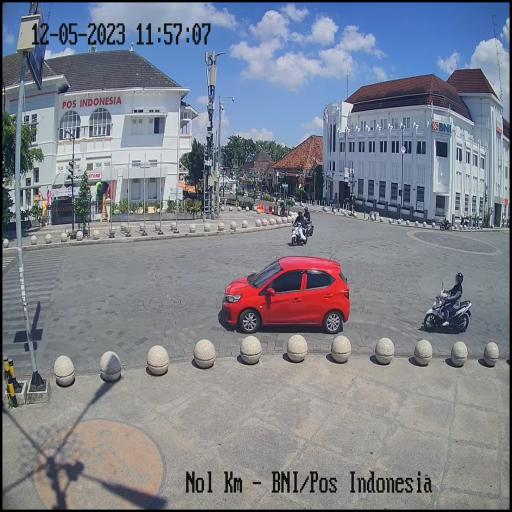mobil: (223, 251, 348, 337)
motor: (422, 278, 472, 336), (288, 218, 308, 250)
